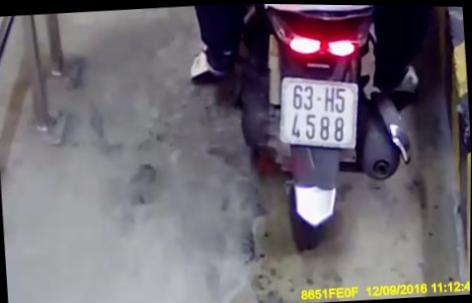LP: (280, 71, 362, 153)
